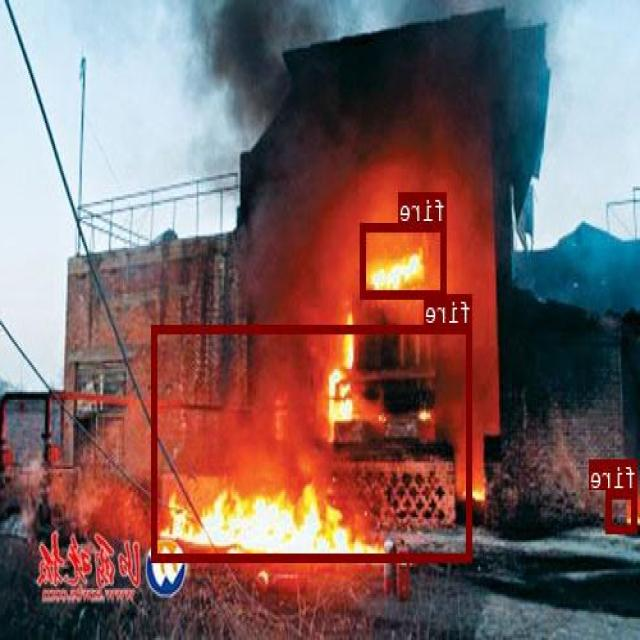fire: (153, 323, 473, 561), (362, 222, 448, 296), (607, 489, 638, 532)
